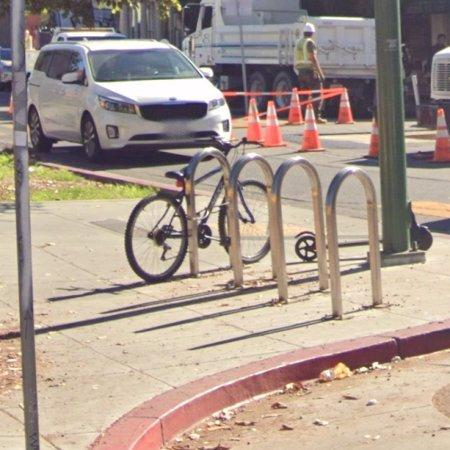bicycles: (125, 190, 189, 283), (239, 180, 271, 264), (197, 177, 228, 252)
